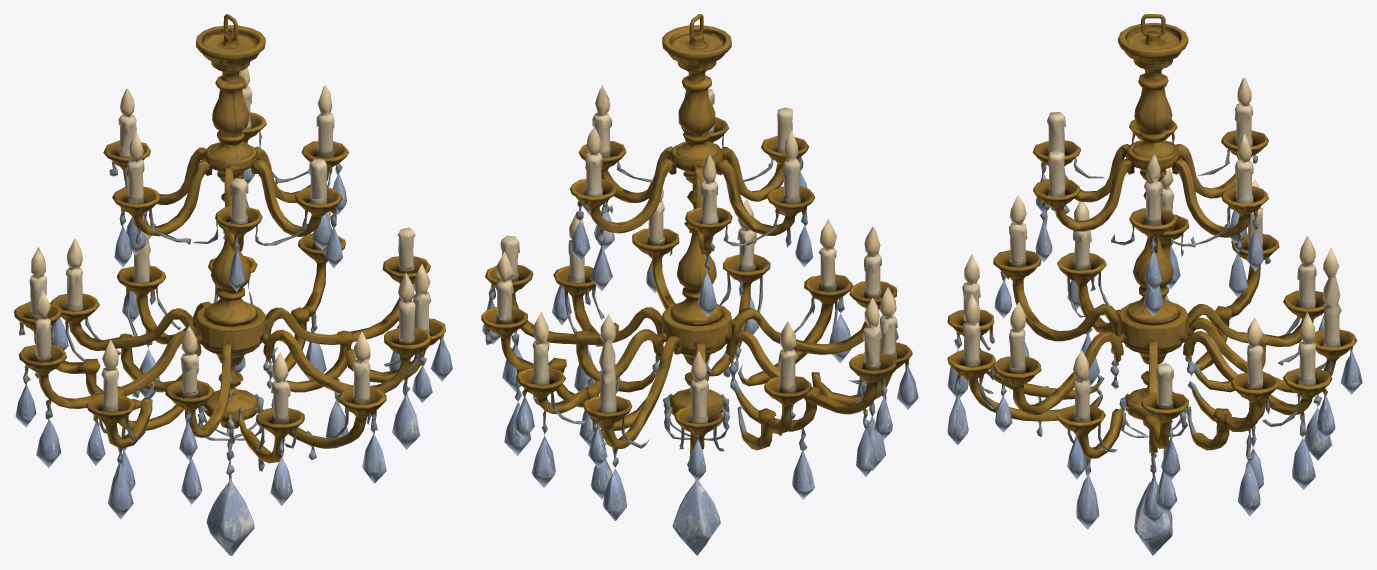
Rendered from majlis_chandelier.glb.
3 views of the same model, side by side, from view 1: azimuth 30°, elevation 25°; view 2: azimuth 150°, elevation 25°; view 3: azimuth 270°, elevation 25° (orthographic).
Size of the model in its own units: 0.7232 by 0.9094 by 0.6321.
Materials: 1 (1 with a texture image).
